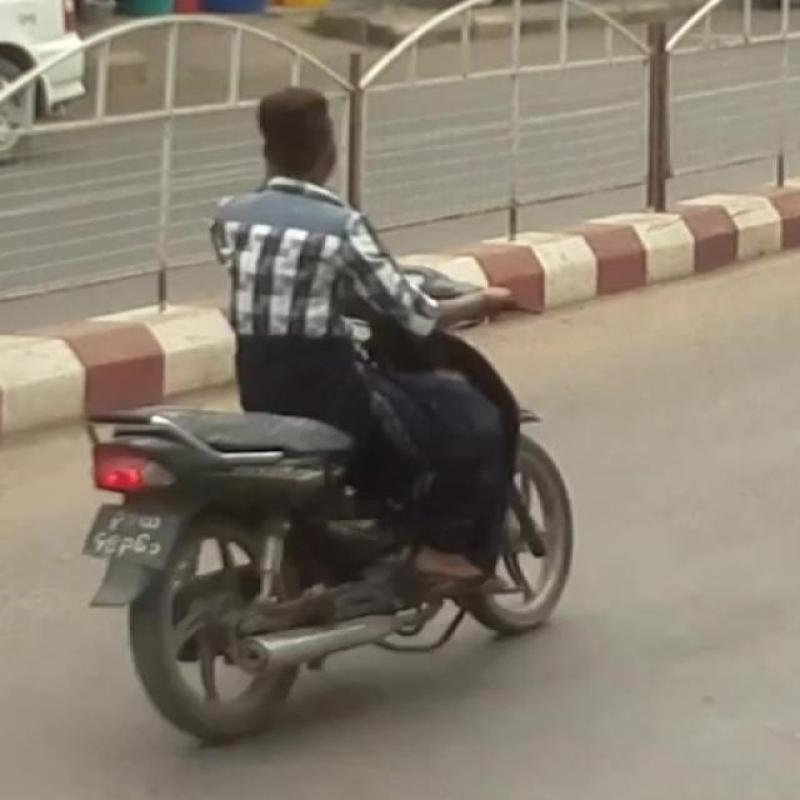nohelmet: (220, 65, 385, 214)
